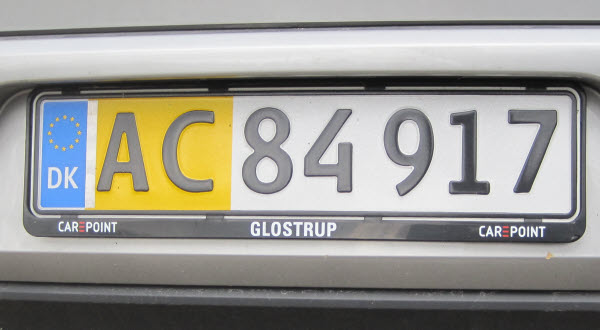license_plate: (32, 88, 579, 222)
